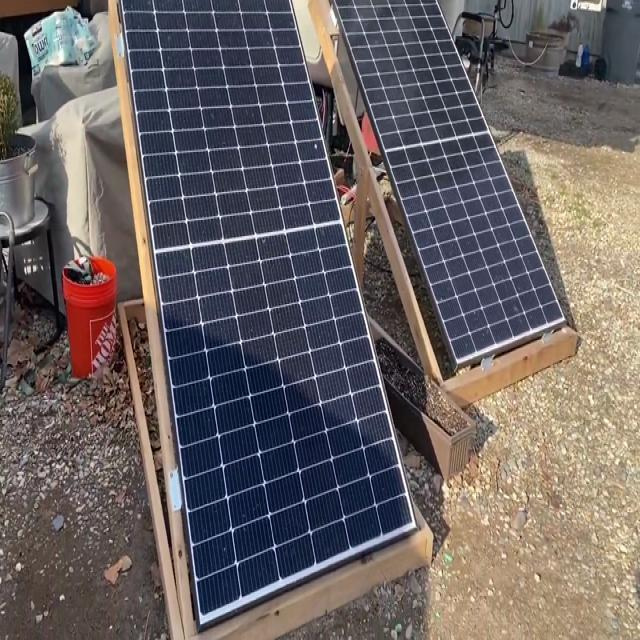Normal Solar Panel: (121, 3, 409, 627), (338, 0, 565, 367)
